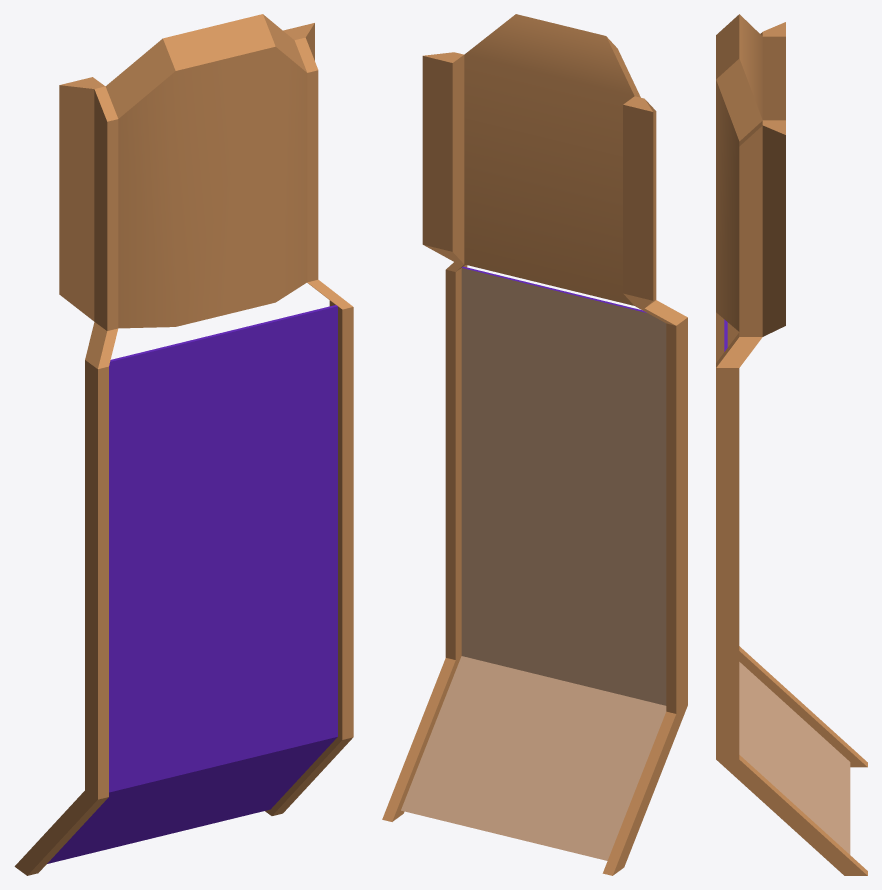
Rendered from sign_angled.fbx.
3 renders of one model, left to right at view 1: azimuth 30°, elevation 25°; view 2: azimuth 150°, elevation 25°; view 3: azimuth 270°, elevation 25°, orthographic. The views are drawn at different scales.
Parts seen in each view (by area): view 1: L6 default default; view 2: L6 default default; view 3: L6 default default.
Part boxes in pixels (bbox=[...]): L6 default default: bbox=[14, 14, 353, 875]; L6 default default: bbox=[382, 14, 687, 875]; L6 default default: bbox=[716, 14, 867, 875].
Bounding box in the file's own units: 11500 × 37000 × 6500.
